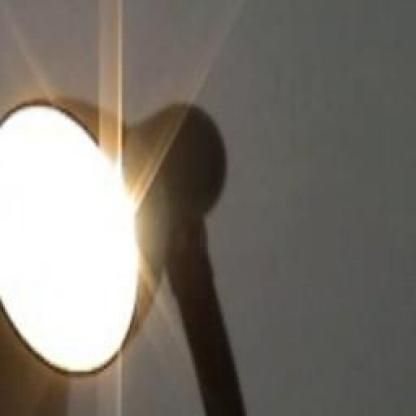other: (3, 90, 140, 387)
